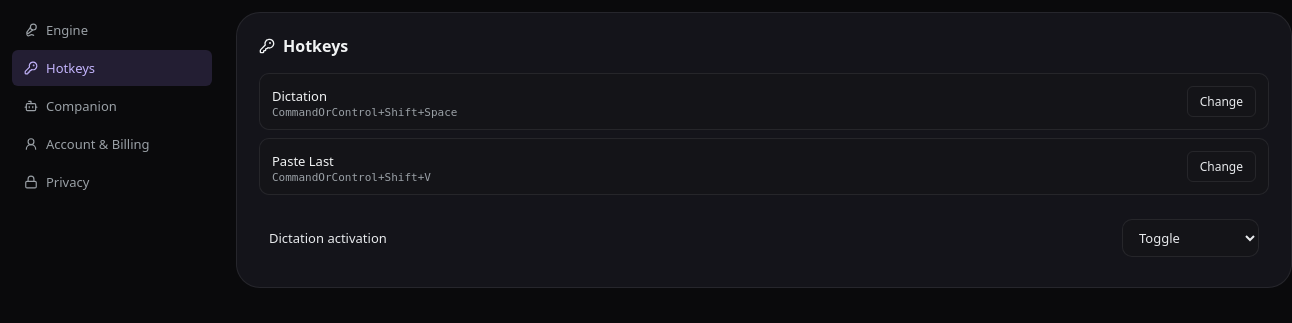
Test: SettingsView interactions › records only global-safe hotkeys with a modifier
Step 1. Click the button "Change" in the row of "CommandOrControl+Shift+Space" → (1221,102), box [1187, 86, 1256, 117]
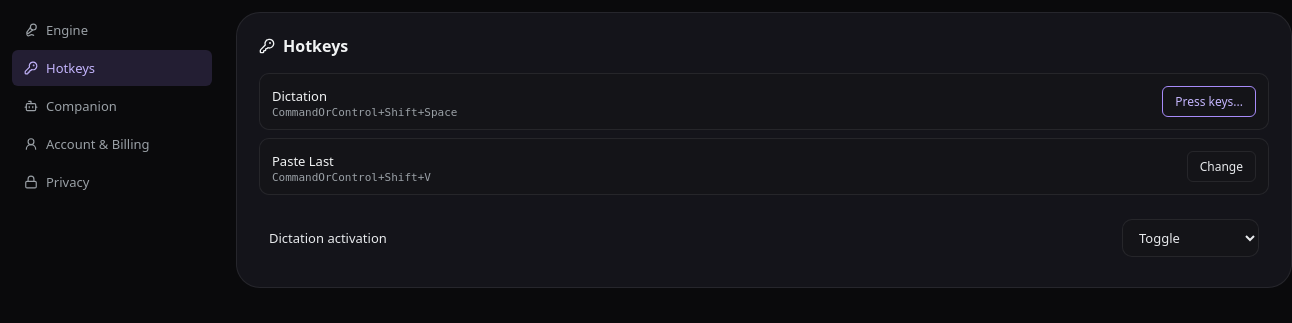
Result: the button "Press keys..." is shown at [1162, 86, 1256, 117]
Step 2. Press K
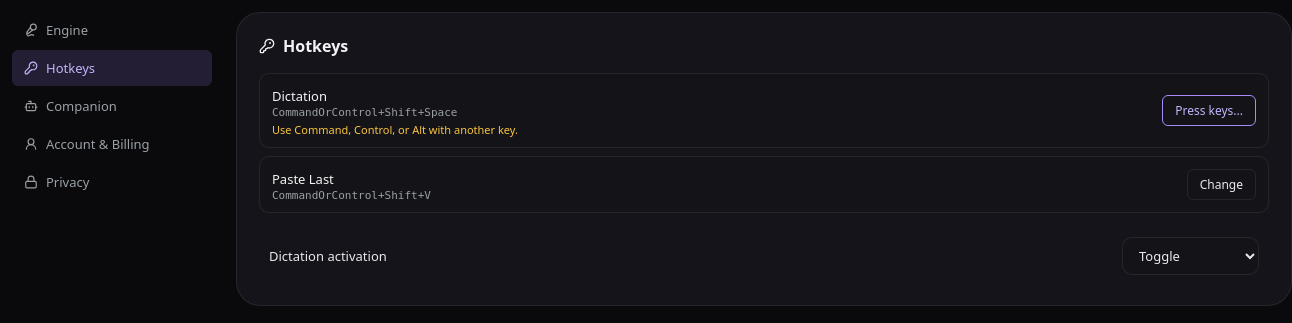
Result: the text "Use Command, Control, or Alt with another key." is shown at [272, 122, 518, 137]
Step 3. Press K
Result: the text "Use Command, Control, or Alt with another key." is shown at [272, 122, 518, 137]
Step 4. Press K
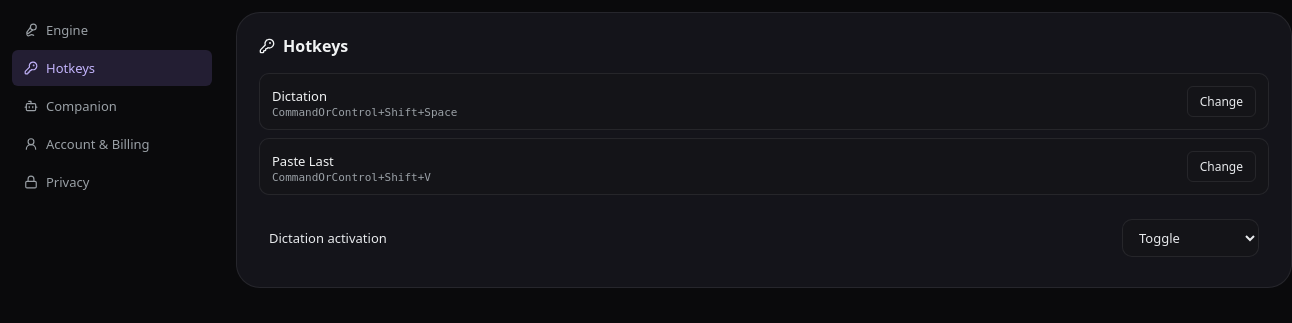
Result: the text "Use Command, Control, or Alt with another key." is gone
